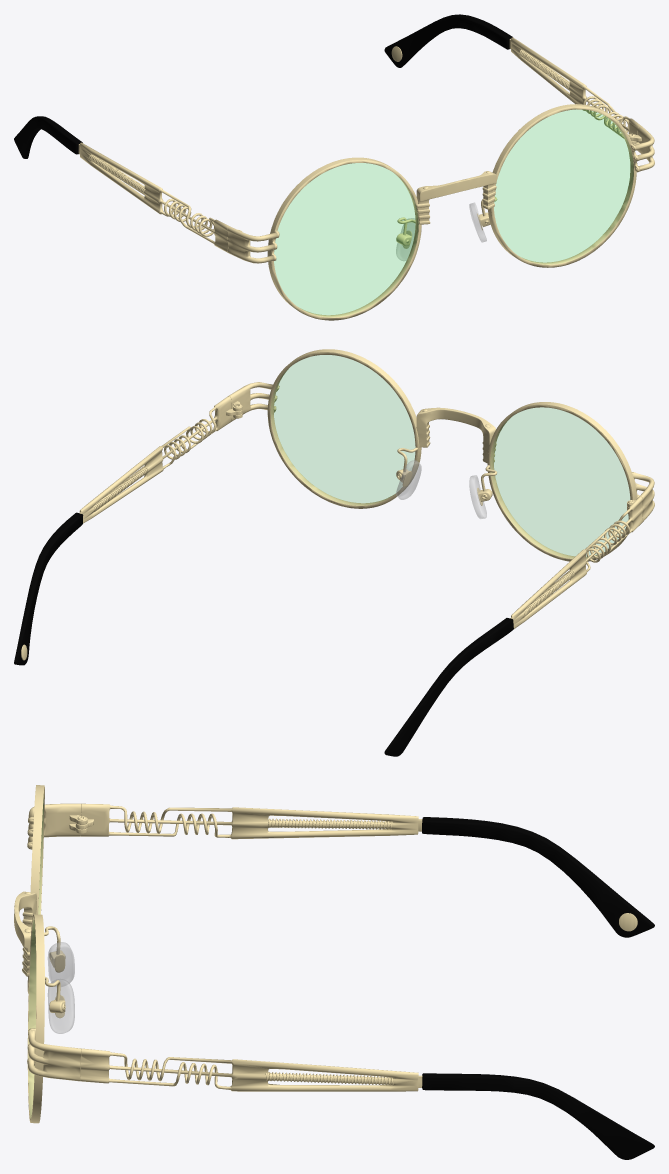
File: glasses-desktop.glb
The picture shows the model from 3 angles, top to bottom: view 1: azimuth 30°, elevation 25°; view 2: azimuth 150°, elevation 25°; view 3: azimuth 270°, elevation 25°; orthographic projection. The views are drawn at different scales.
Visible parts, largest first — view 1: Object_2, Object_9, Object_7, Object_3, Object_8, Object_5, Object_10, Object_4, Object_6; view 2: Object_2, Object_7, Object_9, Object_3, Object_5, Object_8, Object_4, Object_10; view 3: Object_7, Object_3, Object_9, Object_8, Object_4, Object_10, Object_5, Object_12, Object_6.
Part boxes in pixels (x1,y1,x2,y2): Object_2: (274,110,630,314); Object_9: (267,104,636,320); Object_7: (79,37,640,252); Object_3: (14,14,512,158); Object_8: (227,126,654,263); Object_5: (416,171,496,224); Object_10: (89,49,569,194); Object_4: (396,202,486,260); Object_6: (396,147,637,245); Object_2: (274,355,629,556); Object_7: (79,396,643,628); Object_9: (267,349,636,561); Object_3: (14,512,513,756); Object_5: (416,407,496,463); Object_8: (228,382,654,521); Object_4: (396,460,486,518); Object_10: (93,466,574,617); Object_7: (80,803,418,1091); Object_3: (422,817,654,1159); Object_9: (27,785,44,1123); Object_8: (27,803,81,1081); Object_4: (47,942,74,1033); Object_10: (265,818,393,1085); Object_5: (14,891,36,976); Object_12: (50,816,637,1087); Object_6: (24,819,65,1013).
Bounding box in the file's own units: 7.04 × 2.38 × 7.31.
